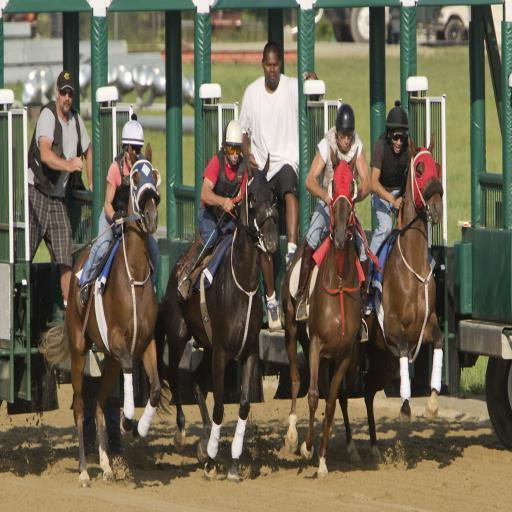horse: (36, 138, 160, 488), (147, 166, 281, 482), (338, 129, 446, 469), (281, 144, 363, 478)
